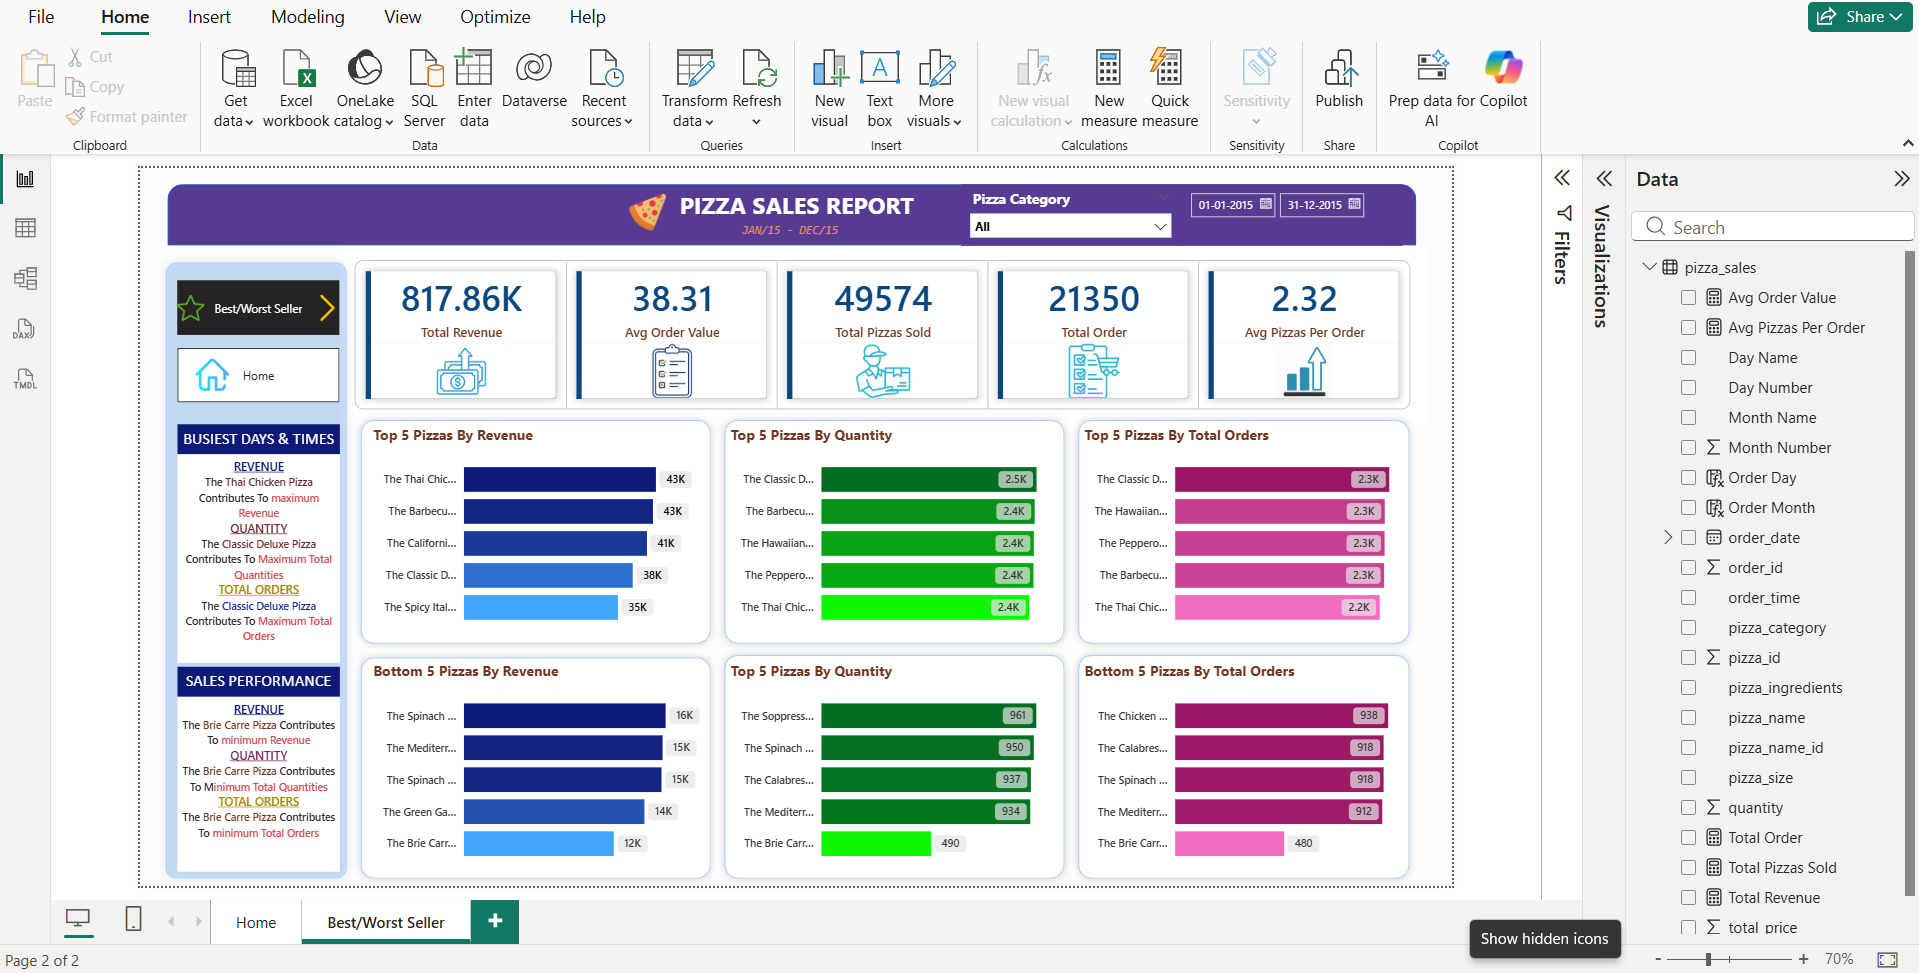

The dashboard page shown, as its layout file describes it:
{"tool":"powerbi","page":{"name":"Best/Worst Seller","canvas":[1500,820],"ordinal":1},"visuals":[{"type":"cardVisual","fields":{"Data":["pizza_sales.Total Revenue","pizza_sales.Avg Order Value","pizza_sales.Total Pizzas Sold","pizza_sales.Total Order","pizza_sales.Avg Pizzas Per Order"]},"box":[228.6,88.6,1242.9,204.3],"z":0},{"type":"shape","box":[31.4,18.6,1427.1,70],"z":1000},{"type":"textbox","box":[611.4,18.6,278.6,45.7],"z":2000},{"type":"textbox","box":[682.9,55.7,125.7,32.9],"z":3000},{"type":"image","box":[548.6,28.6,62.9,44.3],"z":4000},{"type":"shape","box":[244.3,280,415.7,271.4],"z":5000},{"type":"shape","box":[21.4,100,222.9,720],"z":6000},{"type":"textbox","box":[42.9,292.9,185.7,34.3],"z":7000},{"type":"textbox","box":[42.9,327.1,185.7,238.6],"z":8000},{"type":"textbox","box":[42.9,570,185.7,34.3],"z":9000},{"type":"textbox","box":[42.9,604.3,185.7,200],"z":10000},{"type":"slicer","fields":{"Values":["pizza_sales.pizza_category"]},"box":[938.6,18.6,250,70],"z":11000},{"type":"slicer","fields":{"Values":["pizza_sales.order_date"]},"box":[1188.6,18.6,254.3,70],"z":12000},{"type":"shape","box":[660,280,404.3,271.4],"z":13000},{"type":"shape","box":[1064.3,280,394.3,271.4],"z":14000},{"type":"shape","box":[244.3,551.4,415.7,268.6],"z":15000},{"type":"shape","box":[1064.3,548.6,394.3,271.4],"z":16000},{"type":"shape","box":[660,548.6,404.3,271.4],"z":17000},{"type":"barChart","title":"Top 5 Pizzas By Revenue","fields":{"Category":["pizza_sales.pizza_name"],"Y":["pizza_sales.Total Revenue"]},"box":[261.4,292.9,384.3,244.3],"z":18000},{"type":"barChart","title":"Bottom 5 Pizzas By Revenue","fields":{"Category":["pizza_sales.pizza_name"],"Y":["pizza_sales.Total Revenue"]},"box":[261.4,562.9,384.3,244.3],"z":19000},{"type":"barChart","title":"Top 5 Pizzas By Quantity","fields":{"Category":["pizza_sales.pizza_name"],"Y":["pizza_sales.Total Pizzas Sold"]},"box":[670,292.9,384.3,244.3],"z":20000},{"type":"barChart","title":"Top 5 Pizzas By Quantity","fields":{"Category":["pizza_sales.pizza_name"],"Y":["pizza_sales.Total Pizzas Sold"]},"box":[670,562.9,384.3,244.3],"z":21000},{"type":"barChart","title":"Top 5 Pizzas By Total Orders","fields":{"Category":["pizza_sales.pizza_name"],"Y":["pizza_sales.Total Order"]},"box":[1074.3,292.9,384.3,244.3],"z":22000},{"type":"barChart","title":"Bottom 5 Pizzas By Total Orders","fields":{"Category":["pizza_sales.pizza_name"],"Y":["pizza_sales.Total Order"]},"box":[1074.3,562.9,384.3,244.3],"z":23000},{"type":"pageNavigator","box":[42.9,128.6,185.7,62.9],"z":24000},{"type":"pageNavigator","box":[42.9,205.7,185.7,62.9],"z":25000},{"type":"image","box":[184.3,144.3,60,31.4],"z":26000},{"type":"image","box":[57.1,217.1,51.4,38.6],"z":27000},{"type":"image","box":[31.4,144.3,52.9,31.4],"z":28000}]}

Visuals, with their boxes on the page's 1500x820 design canvas (x1, y1, x2, y2). These are canvas units, not pixel positions in the 1919x973 screenshot, which may show the page scaled, cropped or inside an application window:
cardVisual - pizza_sales.Total Revenue x pizza_sales.Avg Order Value: Rect(229, 89, 1472, 293)
shape: Rect(31, 19, 1458, 89)
textbox: Rect(611, 19, 890, 64)
textbox: Rect(683, 56, 809, 89)
image: Rect(549, 29, 612, 73)
shape: Rect(244, 280, 660, 551)
shape: Rect(21, 100, 244, 820)
textbox: Rect(43, 293, 229, 327)
textbox: Rect(43, 327, 229, 566)
textbox: Rect(43, 570, 229, 604)
textbox: Rect(43, 604, 229, 804)
slicer - pizza_sales.pizza_category: Rect(939, 19, 1189, 89)
slicer - pizza_sales.order_date: Rect(1189, 19, 1443, 89)
shape: Rect(660, 280, 1064, 551)
shape: Rect(1064, 280, 1459, 551)
shape: Rect(244, 551, 660, 820)
shape: Rect(1064, 549, 1459, 820)
shape: Rect(660, 549, 1064, 820)
"Top 5 Pizzas By Revenue" barChart: Rect(261, 293, 646, 537)
"Bottom 5 Pizzas By Revenue" barChart: Rect(261, 563, 646, 807)
"Top 5 Pizzas By Quantity" barChart: Rect(670, 293, 1054, 537)
"Top 5 Pizzas By Quantity" barChart: Rect(670, 563, 1054, 807)
"Top 5 Pizzas By Total Orders" barChart: Rect(1074, 293, 1459, 537)
"Bottom 5 Pizzas By Total Orders" barChart: Rect(1074, 563, 1459, 807)
pageNavigator: Rect(43, 129, 229, 192)
pageNavigator: Rect(43, 206, 229, 269)
image: Rect(184, 144, 244, 176)
image: Rect(57, 217, 108, 256)
image: Rect(31, 144, 84, 176)
